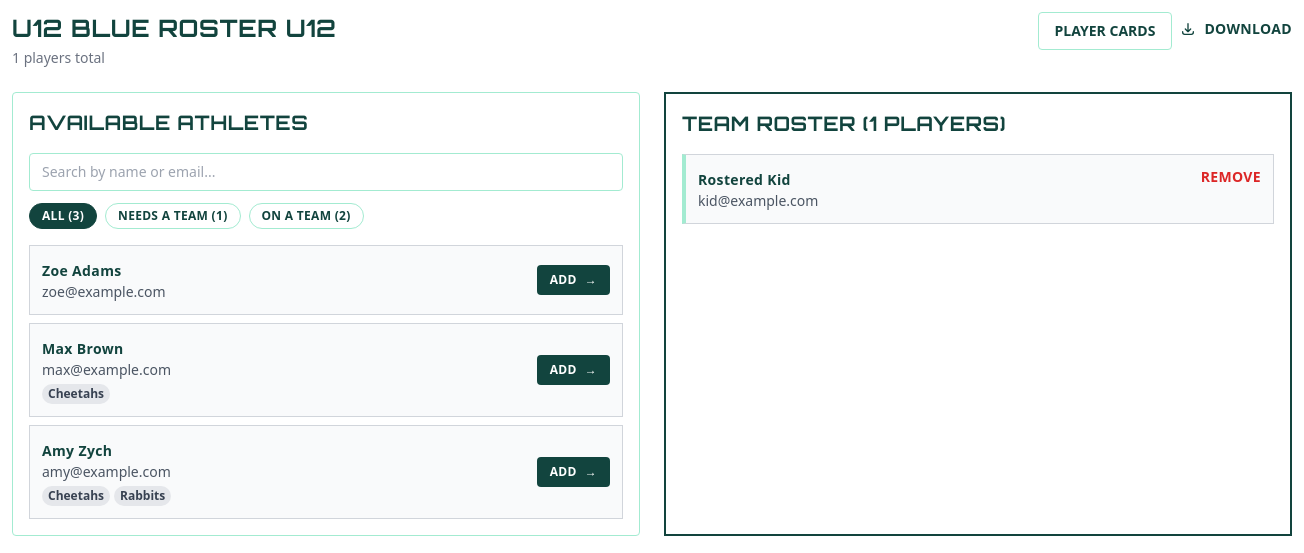
search and pill compose, with a distinct empty state
Check: the button "All (3)" is shown, box [29,203,97,229]
Click the button "Needs a team (1)" at {"x": 173, "y": 216}, box [105,203,240,229]
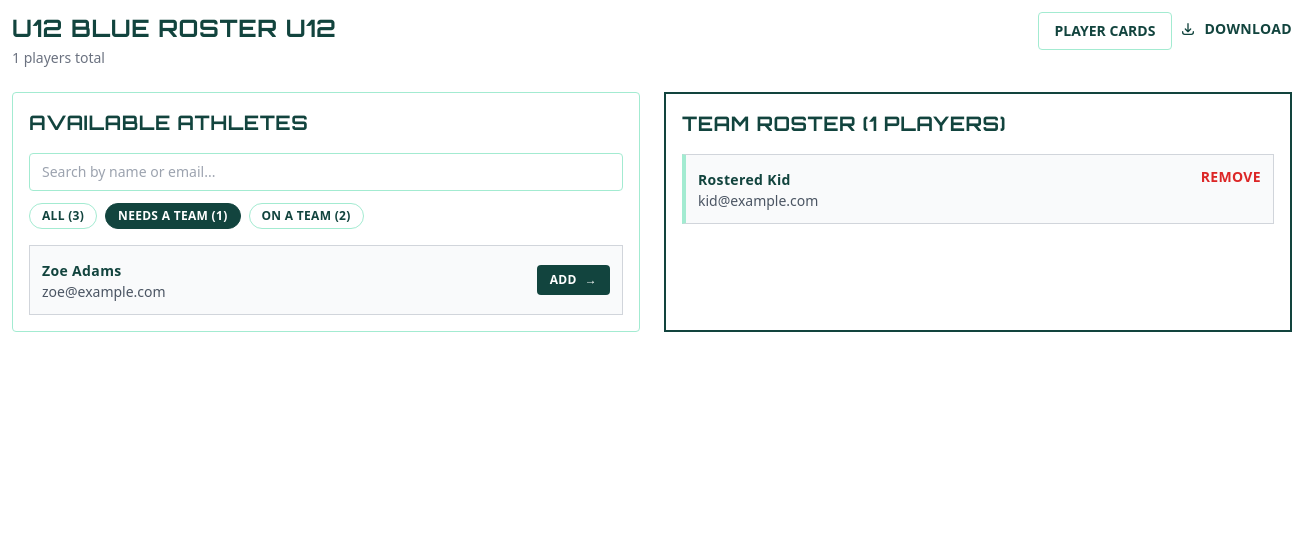
Type "brown" into the search field named "Search available athletes" at {"x": 326, "y": 172}, box [29,153,623,191]
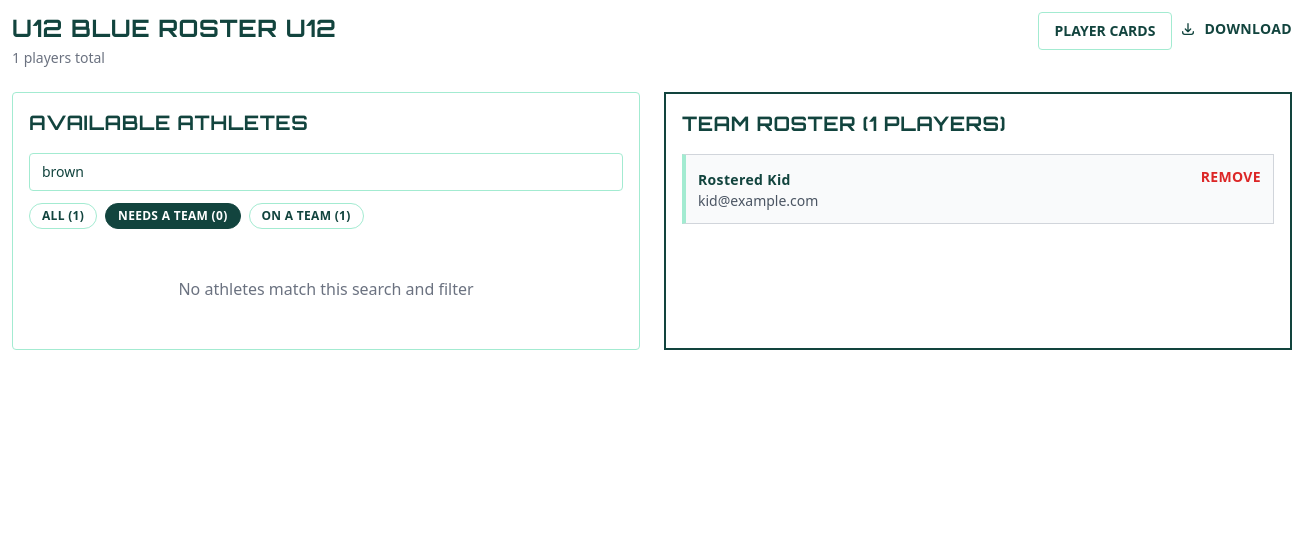
Check: the button "Max Brown" is not shown
Check: the text "No athletes match this search and filter" is shown, box [178,278,474,300]
